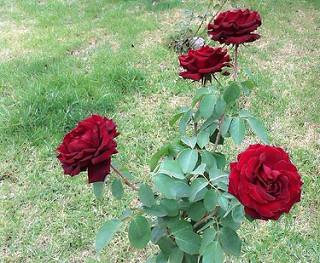Rose: (229, 132, 306, 223), (52, 97, 125, 189), (175, 45, 236, 84), (206, 8, 268, 45)
